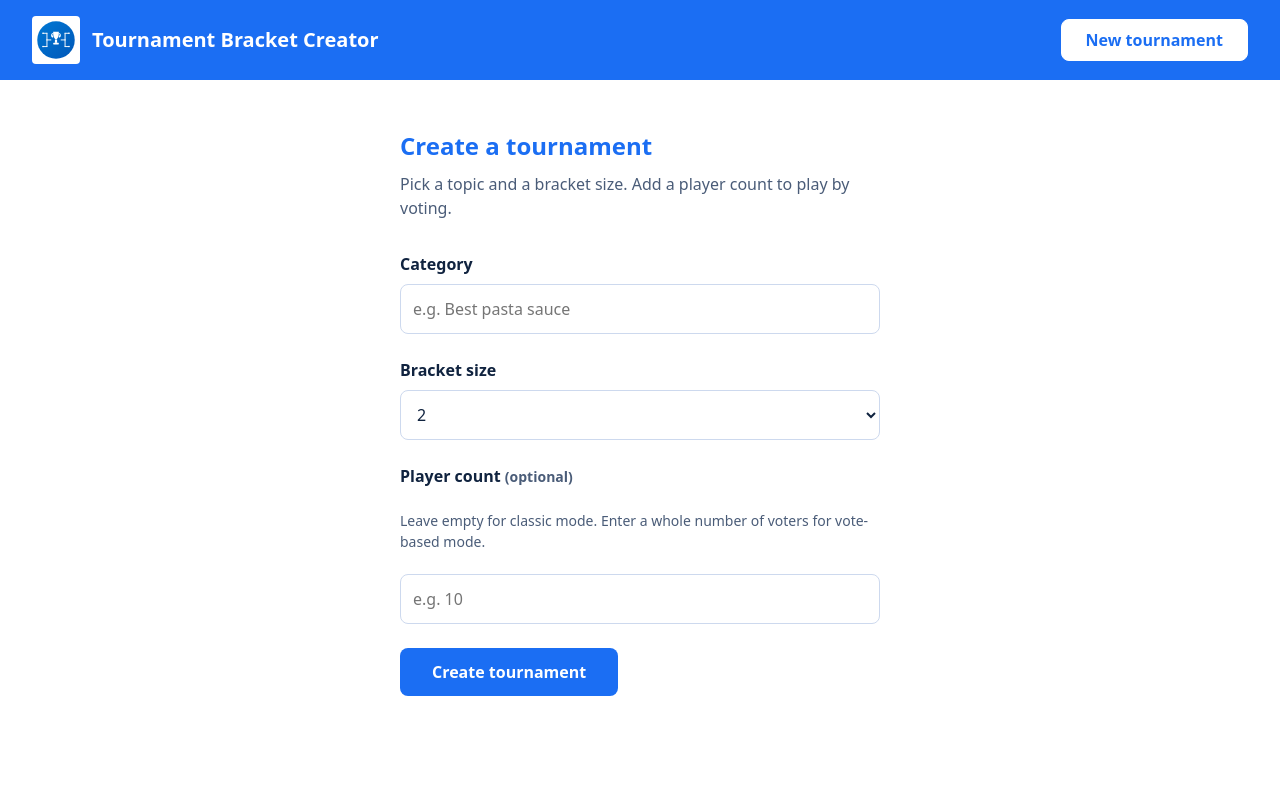
Test: App screen routing › routes to the FillScreen after a tournament is created (FILLING phase)
The image size is (1280, 800).
Type "Best pasta sauce" into the field labelled "Category" at (640, 309), box [400,284,880,334]
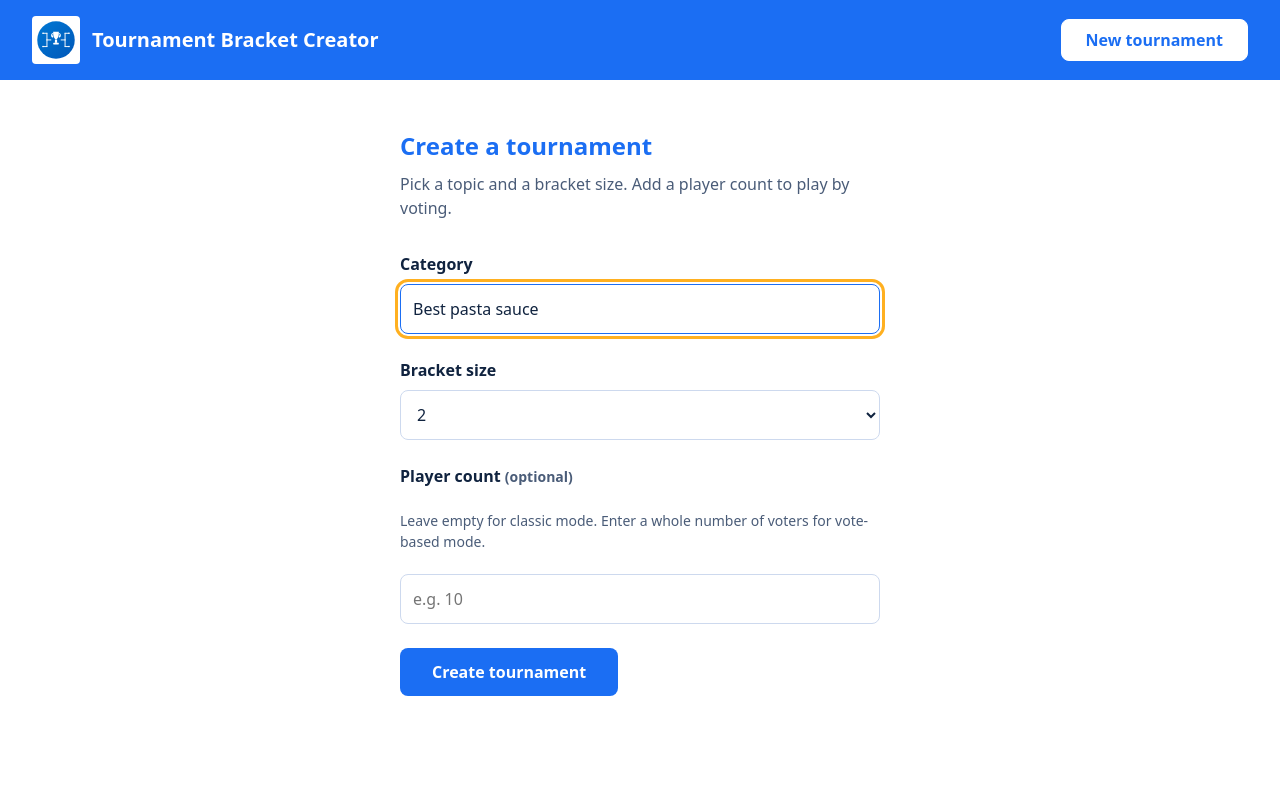
Select "4" in the dropdown labelled "Bracket size" at (640, 415), box [400,390,880,440]
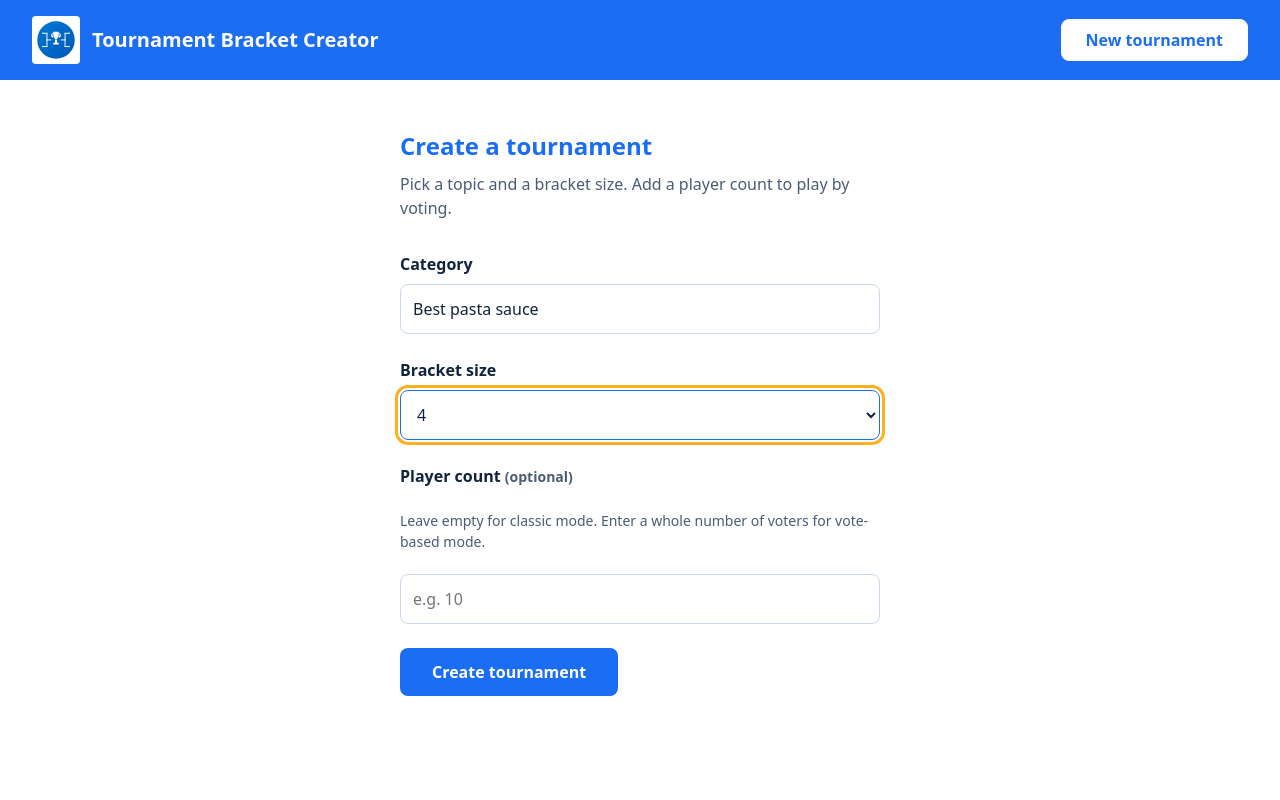
Click the button "Create tournament" at (509, 672), box [400,648,618,696]
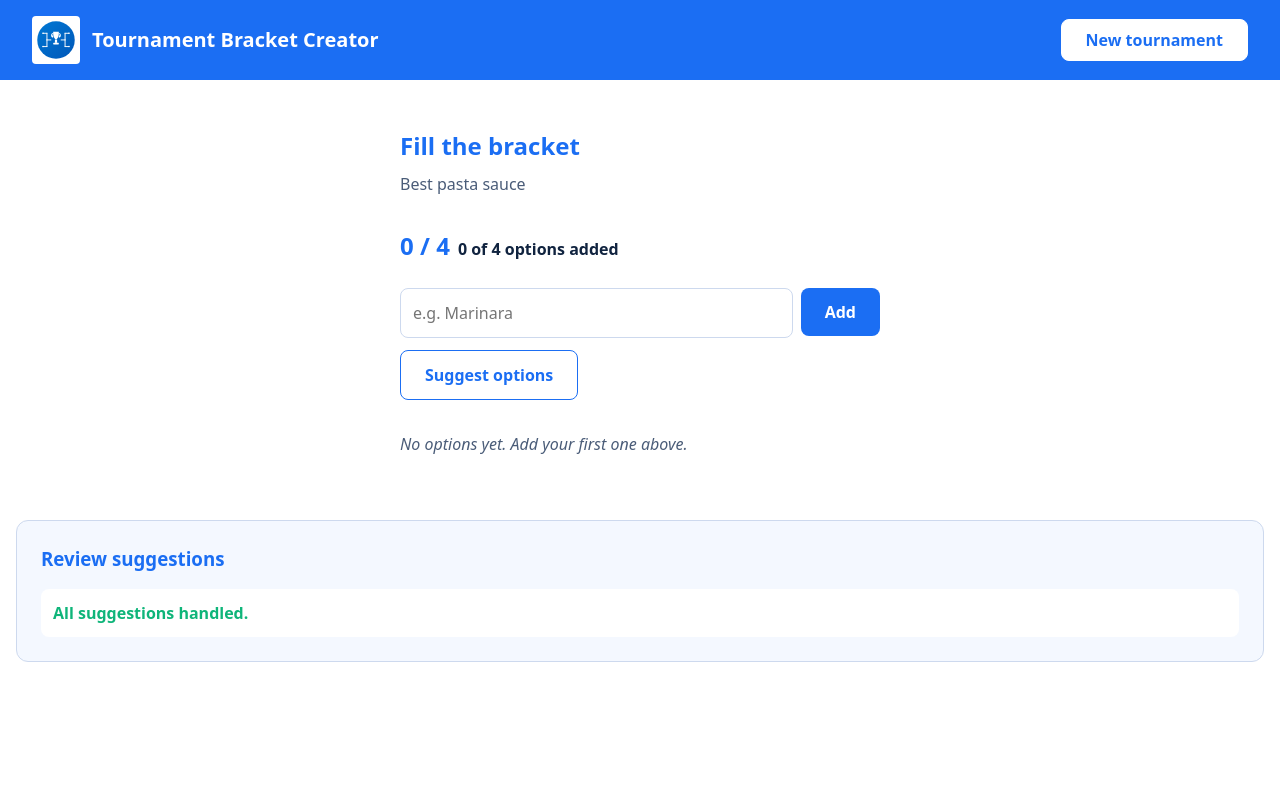
Result: the heading "Fill the bracket" is shown at [400,129,580,162]
